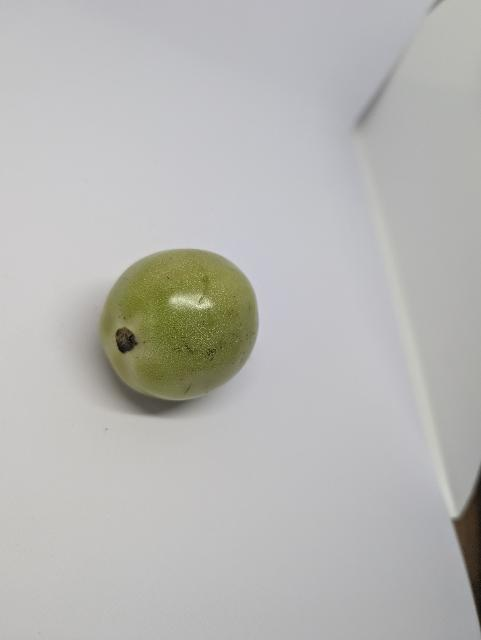green: (92, 236, 268, 417)
